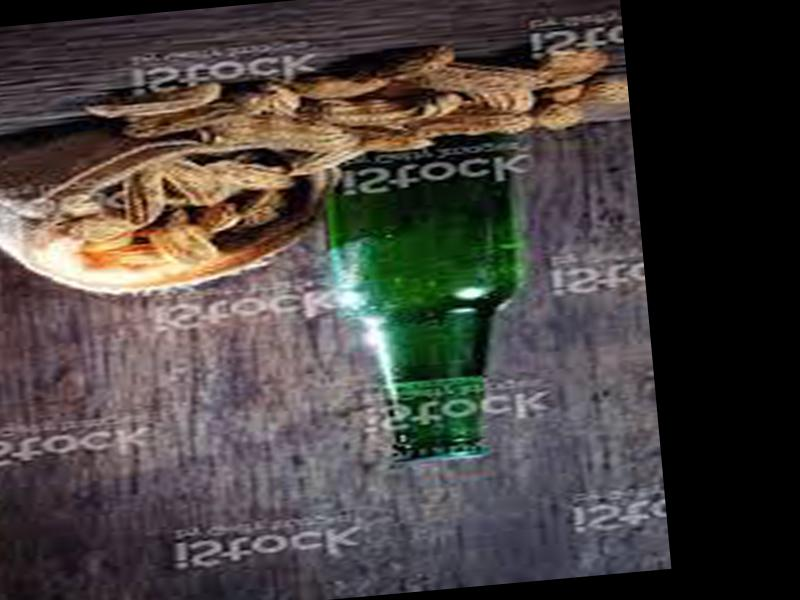Beer: (311, 107, 538, 473)
